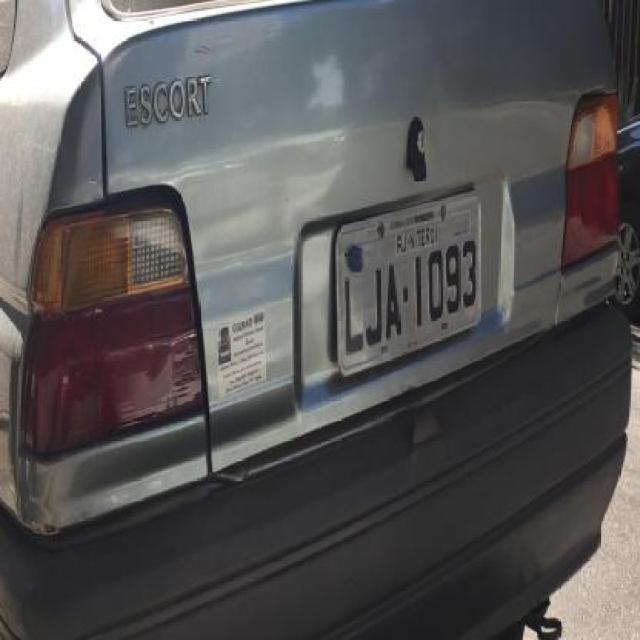old_plate: (326, 182, 488, 384)
